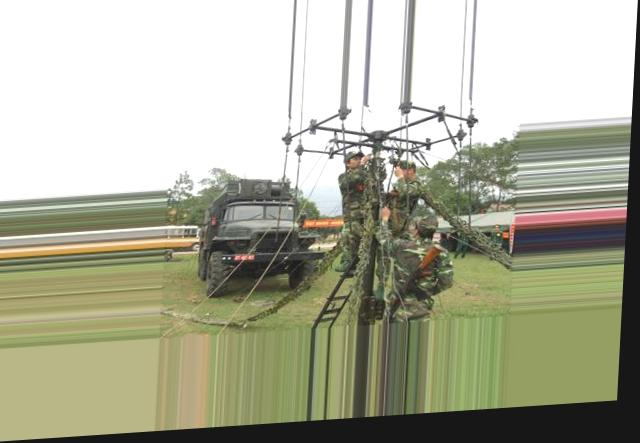License_Plate: (234, 252, 255, 261)
